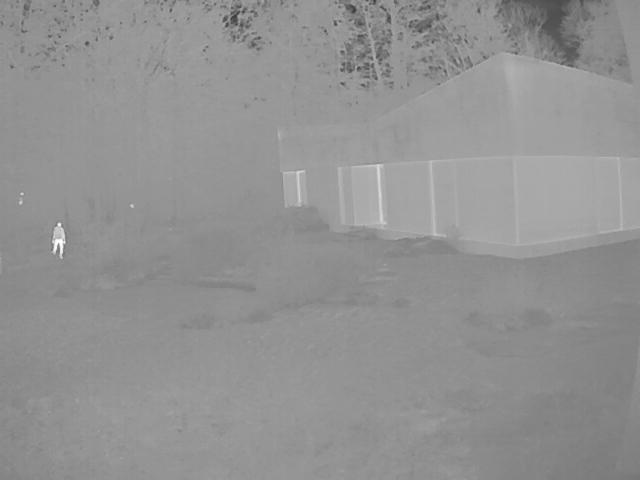person: (53, 222, 68, 261)
